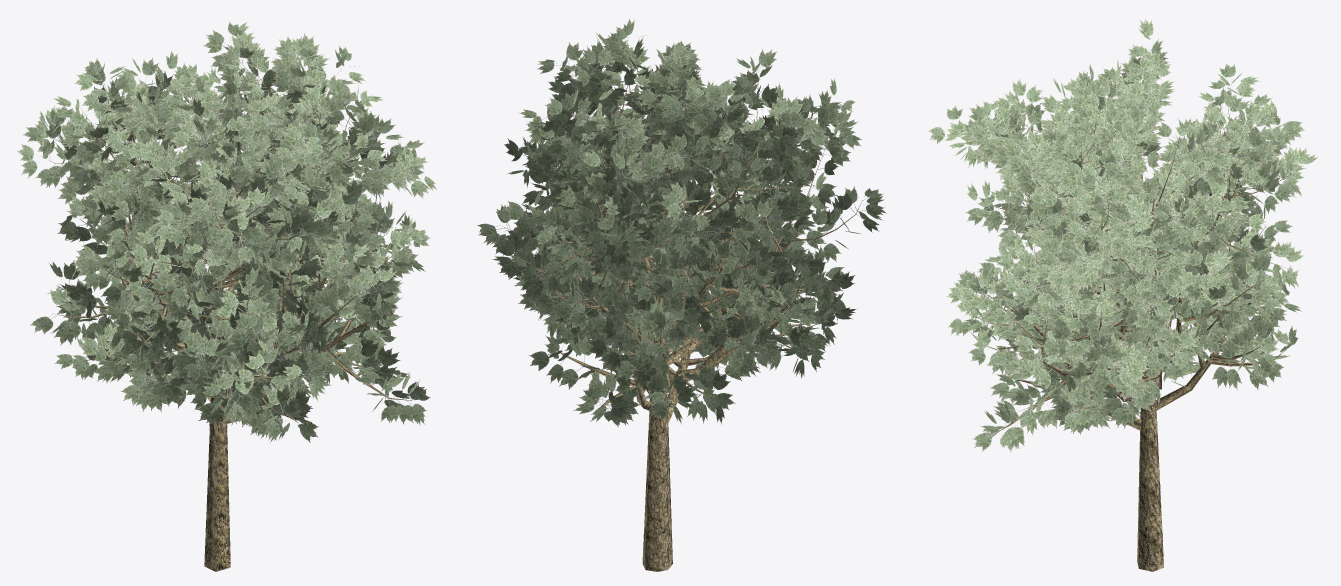
Rendered from MapleTree1.obj.
3 views of the same model, side by side, from view 1: azimuth 30°, elevation 25°; view 2: azimuth 150°, elevation 25°; view 3: azimuth 270°, elevation 25° (orthographic). The views are drawn at different scales.
Visible parts, largest first — view 1: trunk; view 2: trunk; view 3: trunk.
Boxes of the visible parts, x1=… form: trunk: x1=17, y1=21, x2=437, y2=571; trunk: x1=477, y1=18, x2=886, y2=571; trunk: x1=928, y1=18, x2=1318, y2=571.
Bounding box in the file's own units: 15.29 × 19.88 × 14.28.
Materials: 2 (2 with a texture image).
